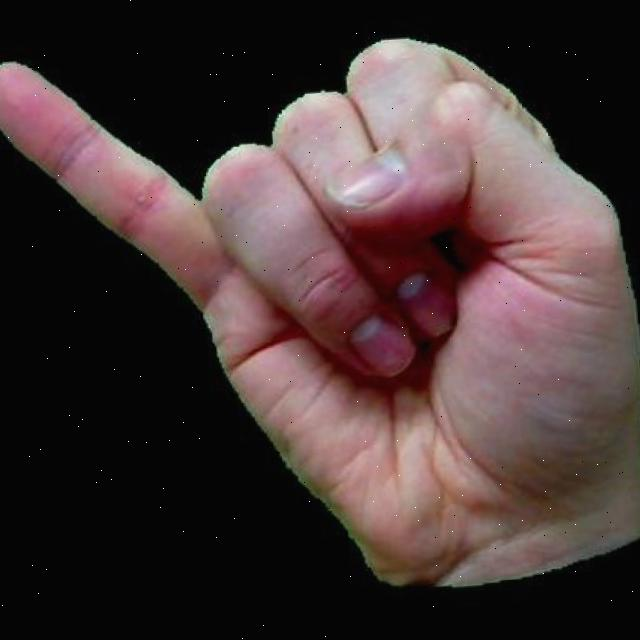j: (0, 1, 640, 634)
